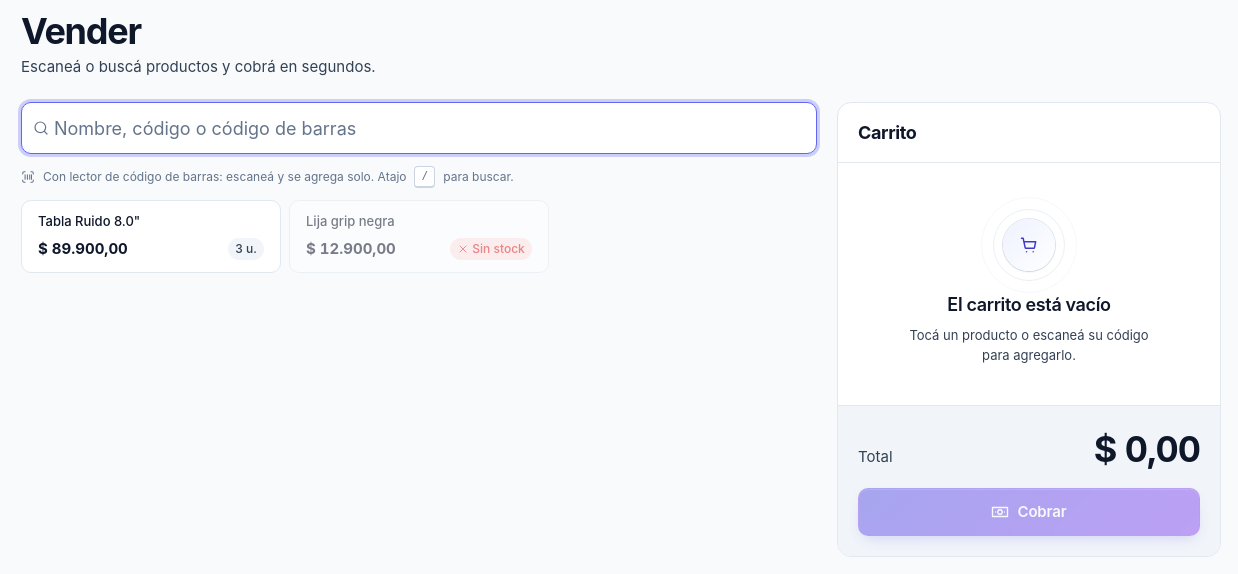
PosPage › no deja agregar productos sin stock ni más unidades de las disponibles
Expected: the button with aria-label "Agregar Lija grip negra" is disabled, [289, 200, 549, 273]
Click the button with aria-label "Agregar Tabla Ruido 8.0" at (89, 221), box [21, 200, 281, 273]
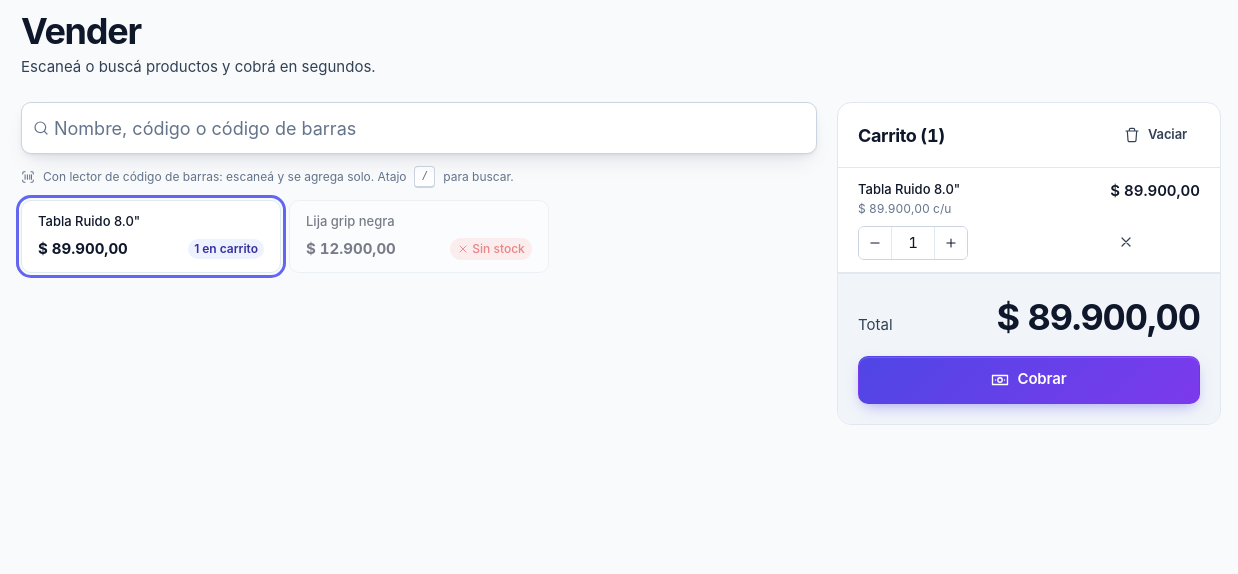
Click the button with aria-label "Agregar Tabla Ruido 8.0" at (89, 221), box [21, 200, 281, 273]
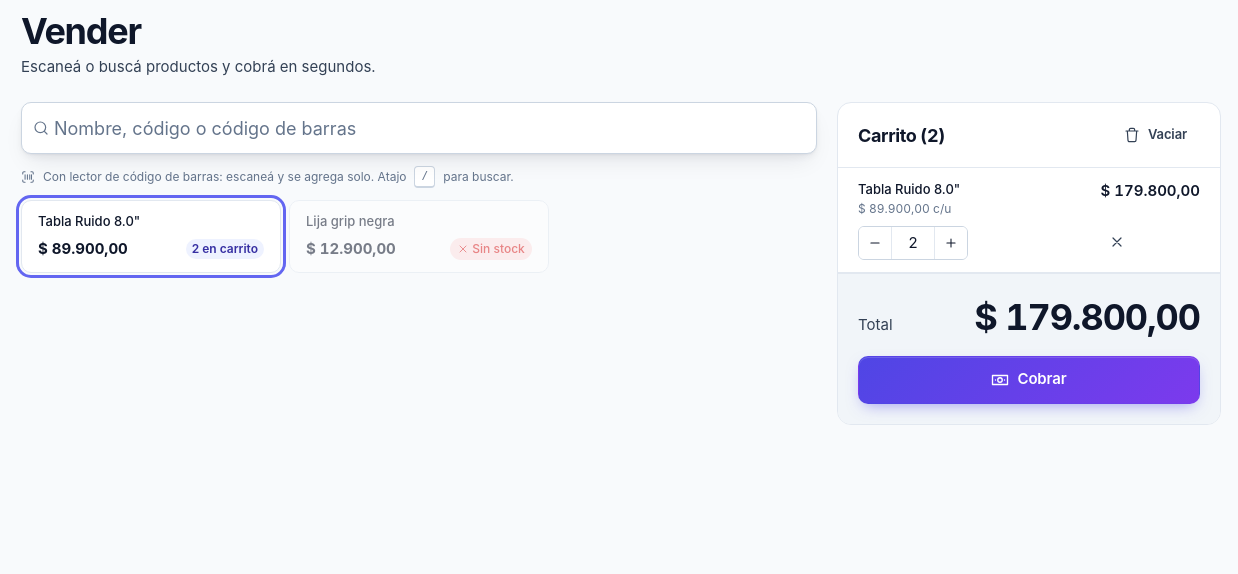
Click the button with aria-label "Agregar Tabla Ruido 8.0" at (89, 221), box [21, 200, 281, 273]
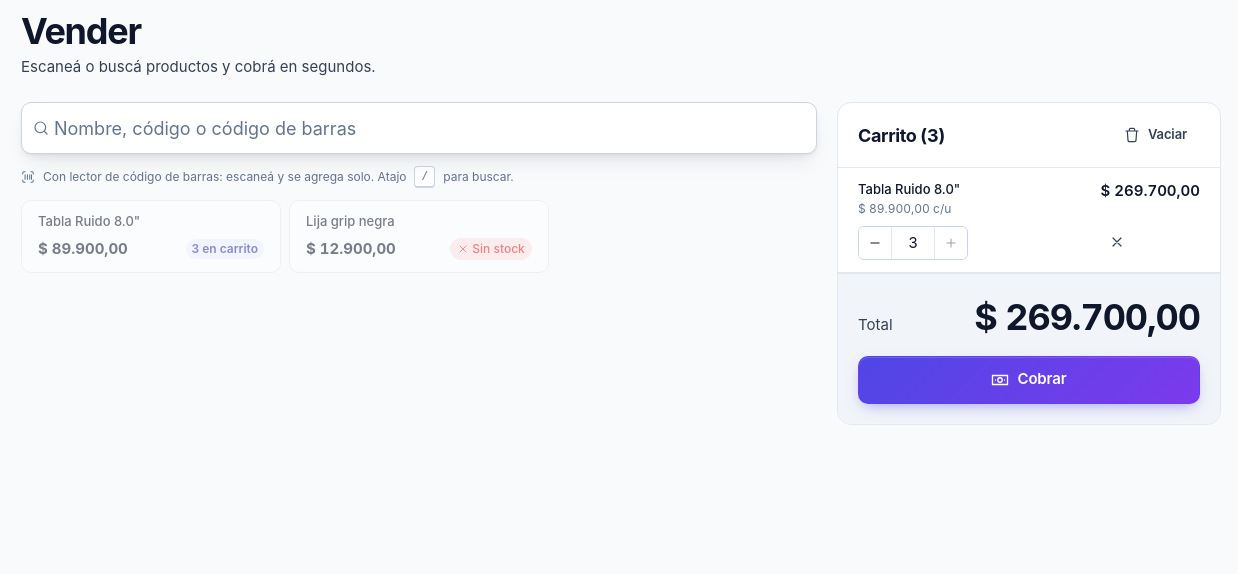
Result: the button with aria-label "Agregar Tabla Ruido 8.0" is disabled at [21, 200, 281, 273]
Result: the number field named "Cantidad de Tabla Ruido 8.0\"" holds "3" at [891, 227, 935, 259]
Result: the element "Carrito" shows "$ 269.700,00" at [1100, 181, 1200, 200]
